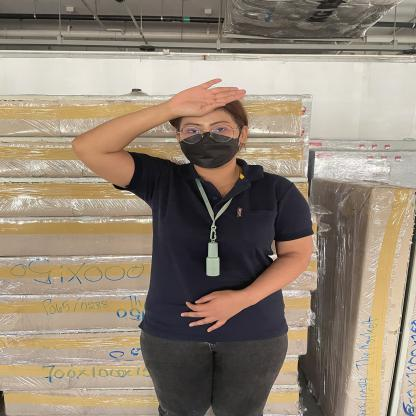Sick: (139, 58, 262, 124)
